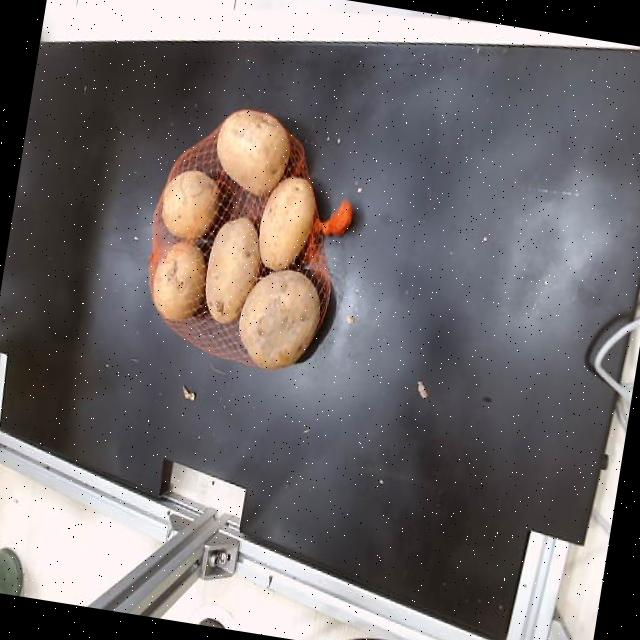potato: (239, 269, 320, 369), (219, 109, 290, 195), (205, 218, 261, 323), (260, 180, 316, 271), (152, 241, 207, 321), (162, 171, 219, 239)
